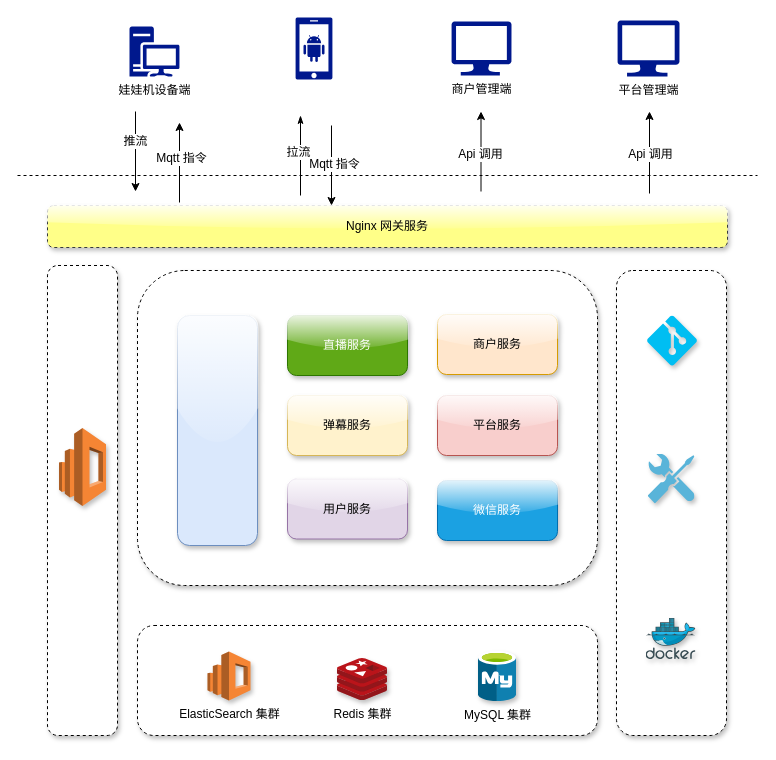
Some shapes in this 776 by 760 pixel diagram are drawn without their labels. Each missing label, with the centre of its shape:
"Docker 容器化" goes at point (672, 640).
"ELK 日志" goes at point (83, 468).
"Git 部署" goes at point (672, 341).
"Jenkins 自动构建" goes at point (672, 480).
"用户端" goes at point (313, 48).
"设备通信服务" goes at point (218, 431).
